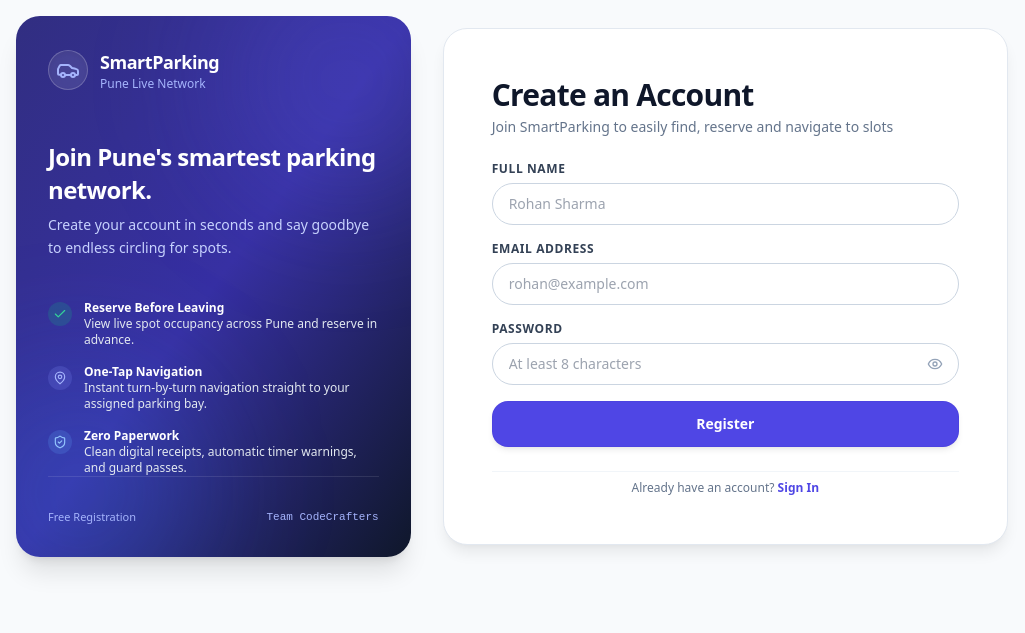
Auth Flow, Role Redirection & Session Management › Signup Form Validation › validates required fields with accessible feedback
Click the button "Register" at (725, 424), box [492,401,959,447]
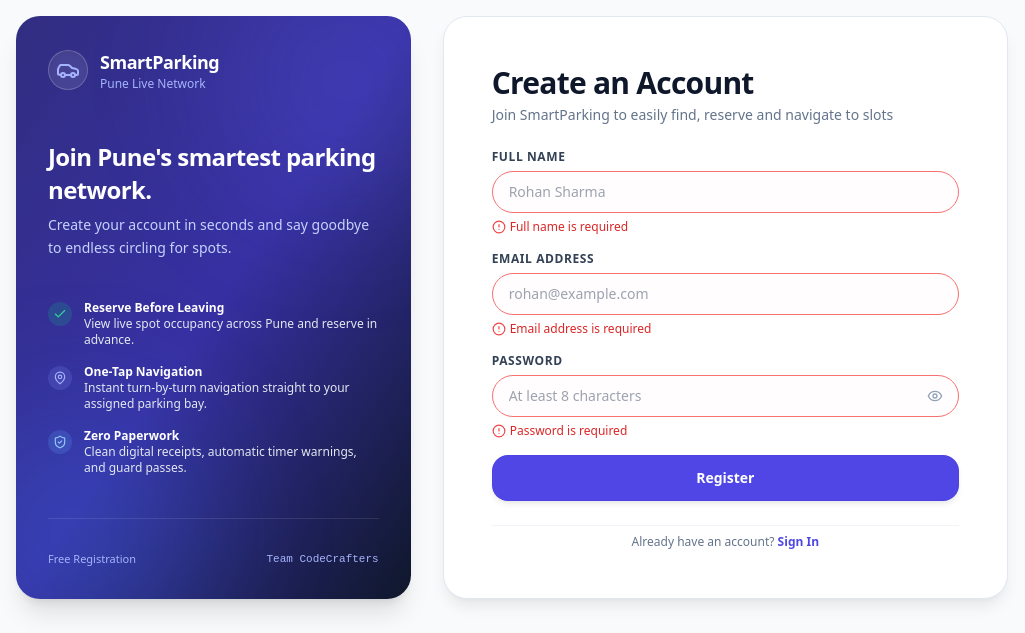
Now the text "Full name is required" is shown, box [492,218,628,235]
Now the text "Email address is required" is shown, box [492,320,651,337]
Now the text "Password is required" is shown, box [492,422,627,439]
